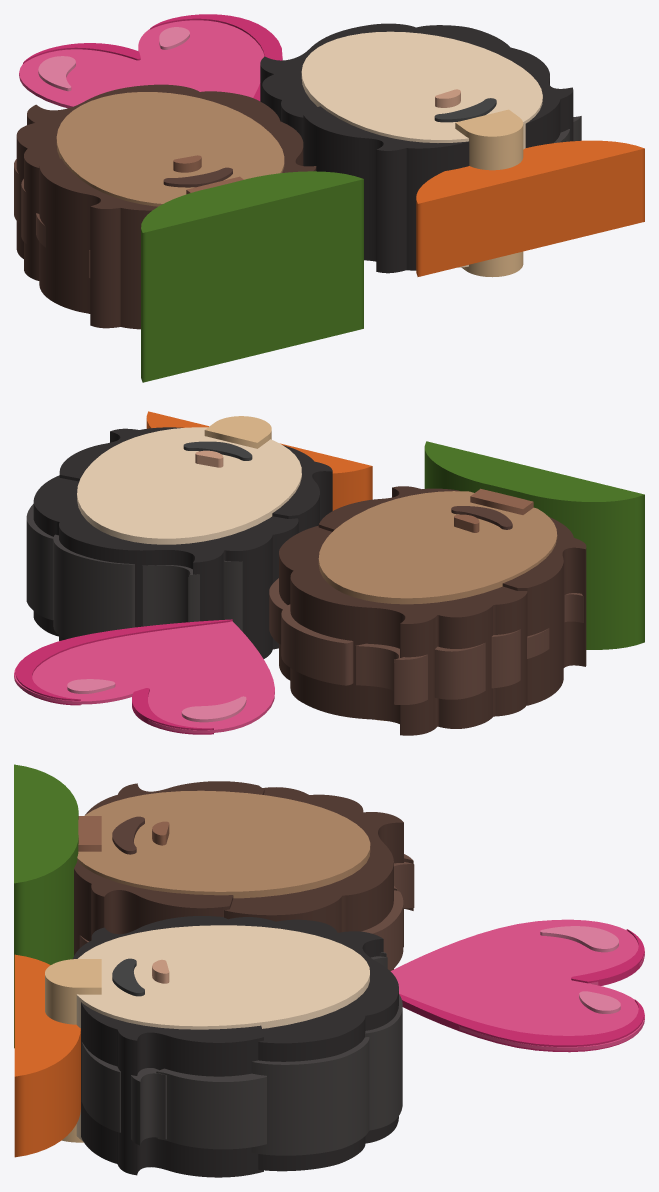
Rendered from emoji_u1f9d1_1f3fd_200d_2764_200d_1f9d1_1f3fb.glb.
3 renders of one model, top to bottom at view 1: azimuth 30°, elevation 25°; view 2: azimuth 150°, elevation 25°; view 3: azimuth 270°, elevation 25°, orthographic. The views are drawn at different scales.
Visible parts, largest first — view 1: emoji_u1f9d1_1f3fd_200d_2764_200d_1f9d1_1f3fb; view 2: emoji_u1f9d1_1f3fd_200d_2764_200d_1f9d1_1f3fb; view 3: emoji_u1f9d1_1f3fd_200d_2764_200d_1f9d1_1f3fb.
Boxes of the visible parts, left/top/right/bottom form: emoji_u1f9d1_1f3fd_200d_2764_200d_1f9d1_1f3fb: left=14, top=14, right=644, bottom=382; emoji_u1f9d1_1f3fd_200d_2764_200d_1f9d1_1f3fb: left=14, top=411, right=644, bottom=735; emoji_u1f9d1_1f3fd_200d_2764_200d_1f9d1_1f3fb: left=14, top=764, right=644, bottom=1177.
Bounding box in the file's own units: 0.0345 × 0.0098 × 0.034.
